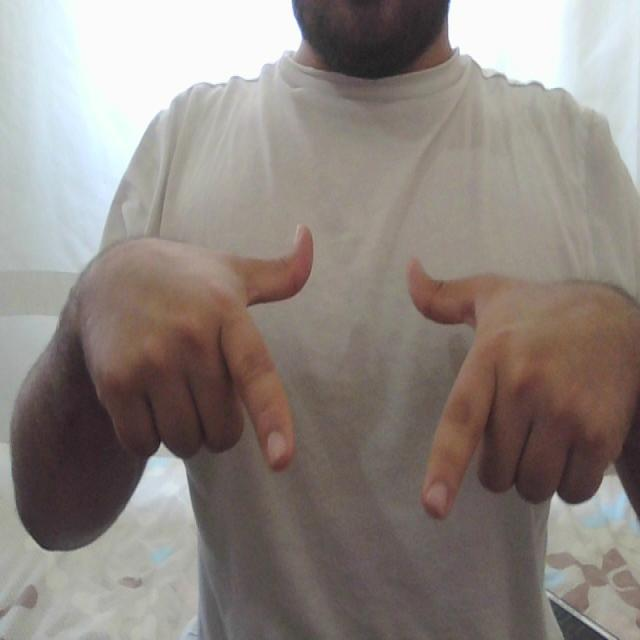Nerede: (211, 217, 518, 525)
